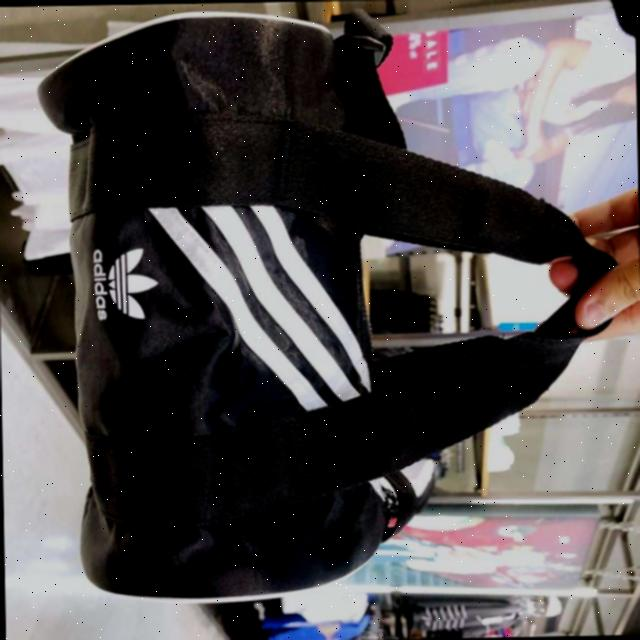handbag: (24, 0, 414, 599)
